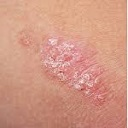Psoriasis: (40, 35, 104, 94)
